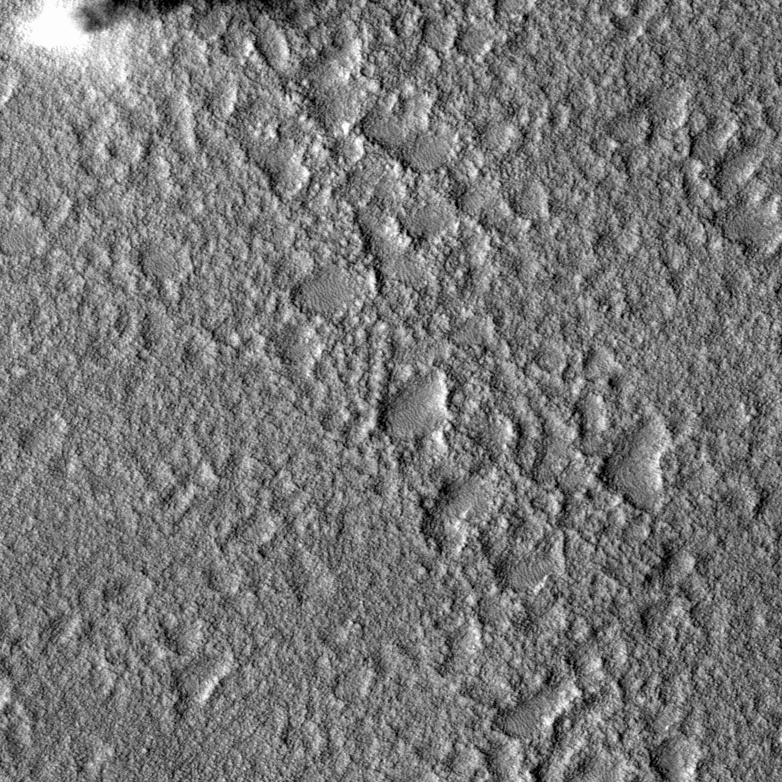dust_devil: (20, 1, 320, 52)
